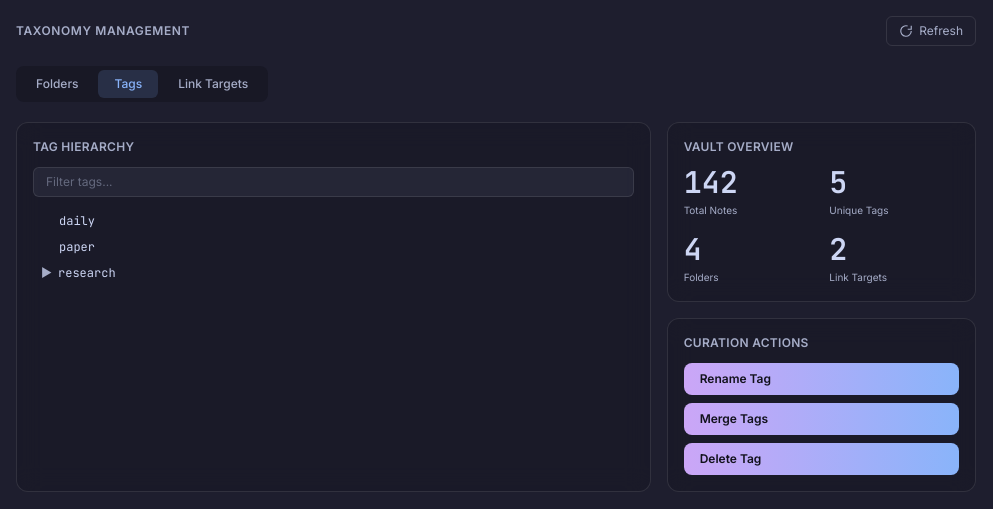
Test: TaxonomyPage › switches to link targets tab
Expected: the text "research" is shown, top-left (58, 265), bottom-right (116, 281)
Click the button "Link Targets": (213, 84) top-left (162, 70), bottom-right (264, 98)
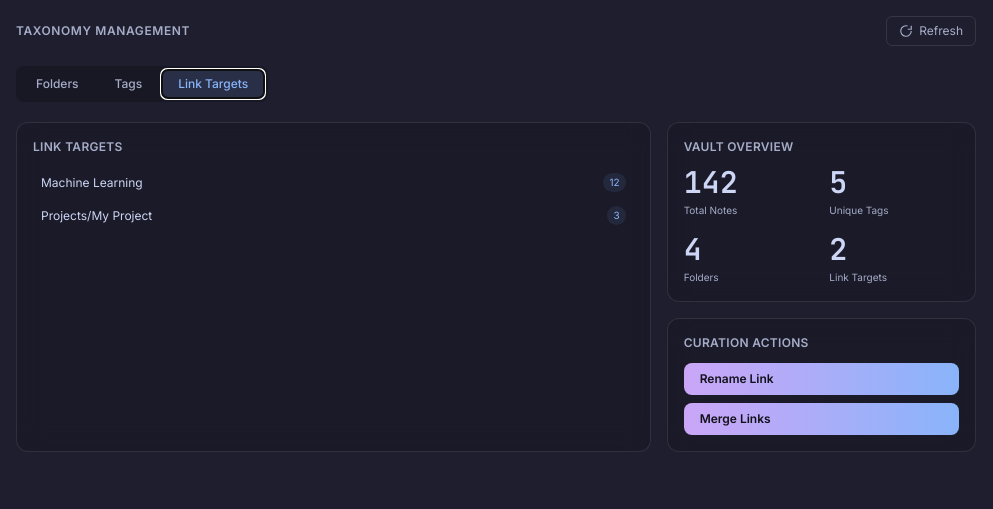
Result: the text "Machine Learning" is shown at top-left (41, 174), bottom-right (143, 190)
